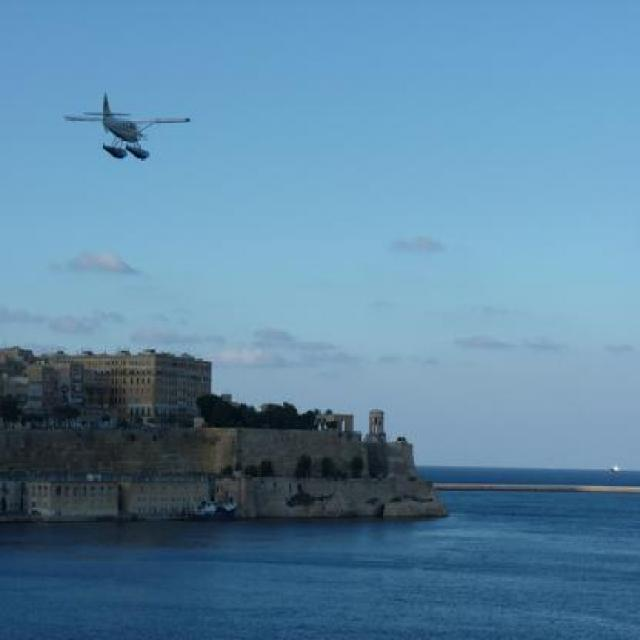ship: (186, 491, 238, 522)
